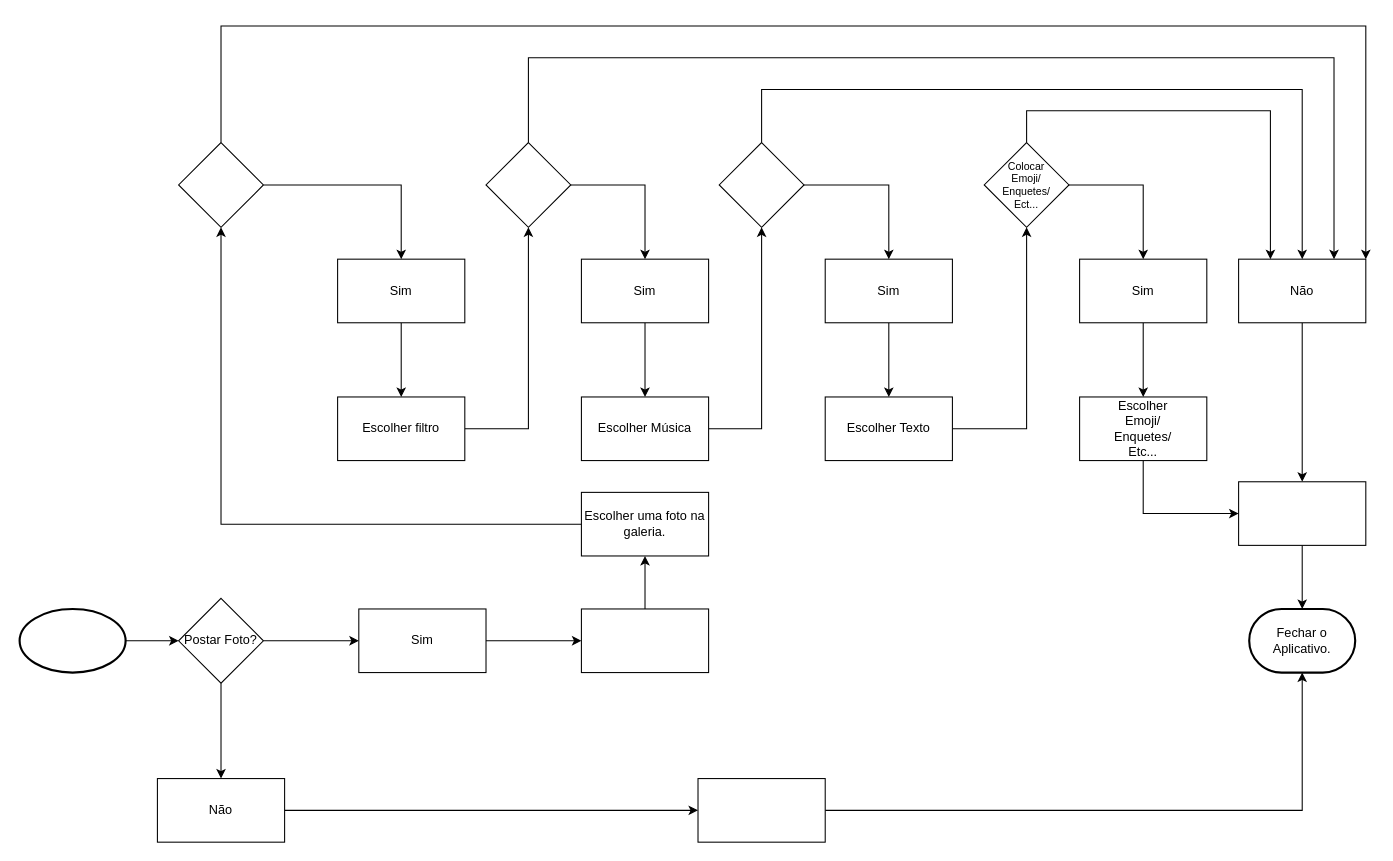
The diagram is 1393 pixels wide and 861 high, and some of its shapes have lost their labels. Each missing label, with the centre of its shape:
Abrir o Instagram: the point at 72,640
Clicar no botão '+', para adicionar foto: the point at 644,640
Colocar filtro?: the point at 220,184
Colocar Música?: the point at 528,184
Colocar Texto: the point at 761,184
Postar Foto: the point at 1302,513
Visualizar o Feed: the point at 761,810
